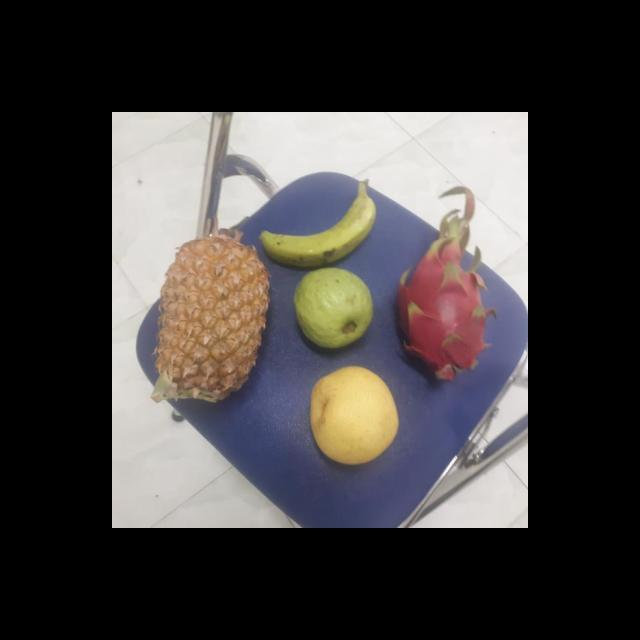banana: (257, 184, 377, 270)
guava: (291, 270, 374, 348)
pear: (306, 364, 402, 466)
pineapple: (146, 243, 268, 402)
pitaya: (391, 240, 493, 384)
